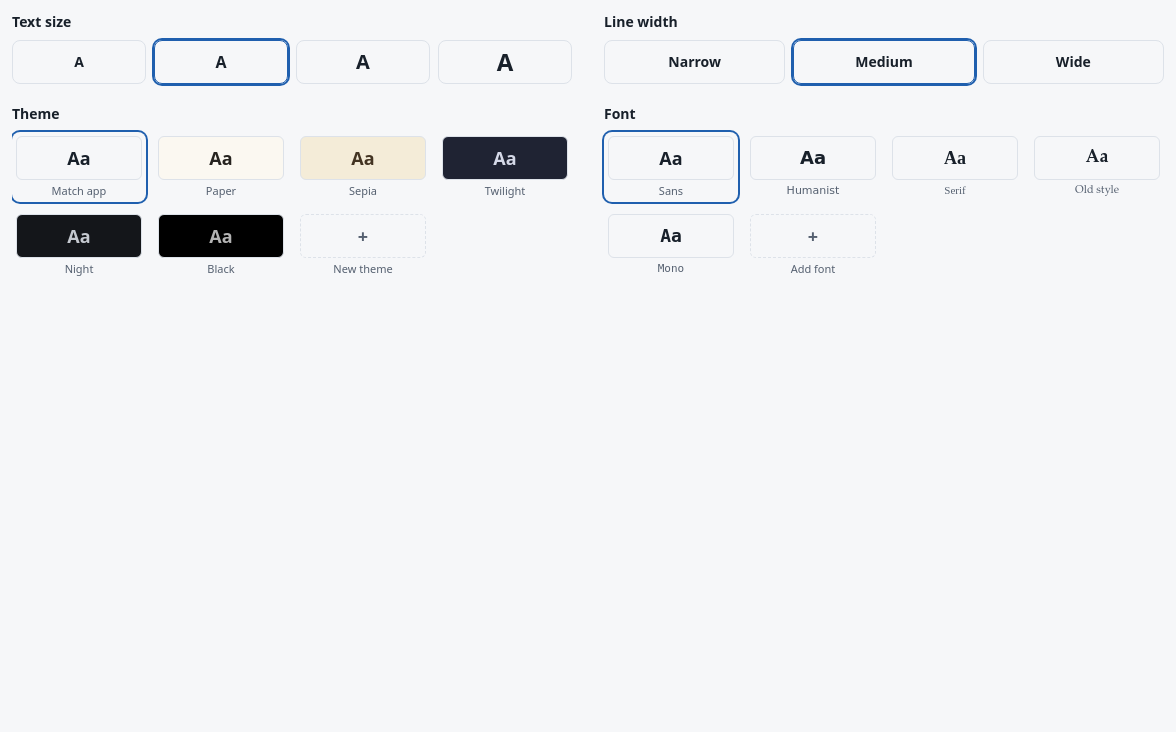
Scenario: ReaderSettings › fonts › notes that a custom font must be installed on the device
Click the button "+ Add font" at [813, 245], box [746,210,880,280]
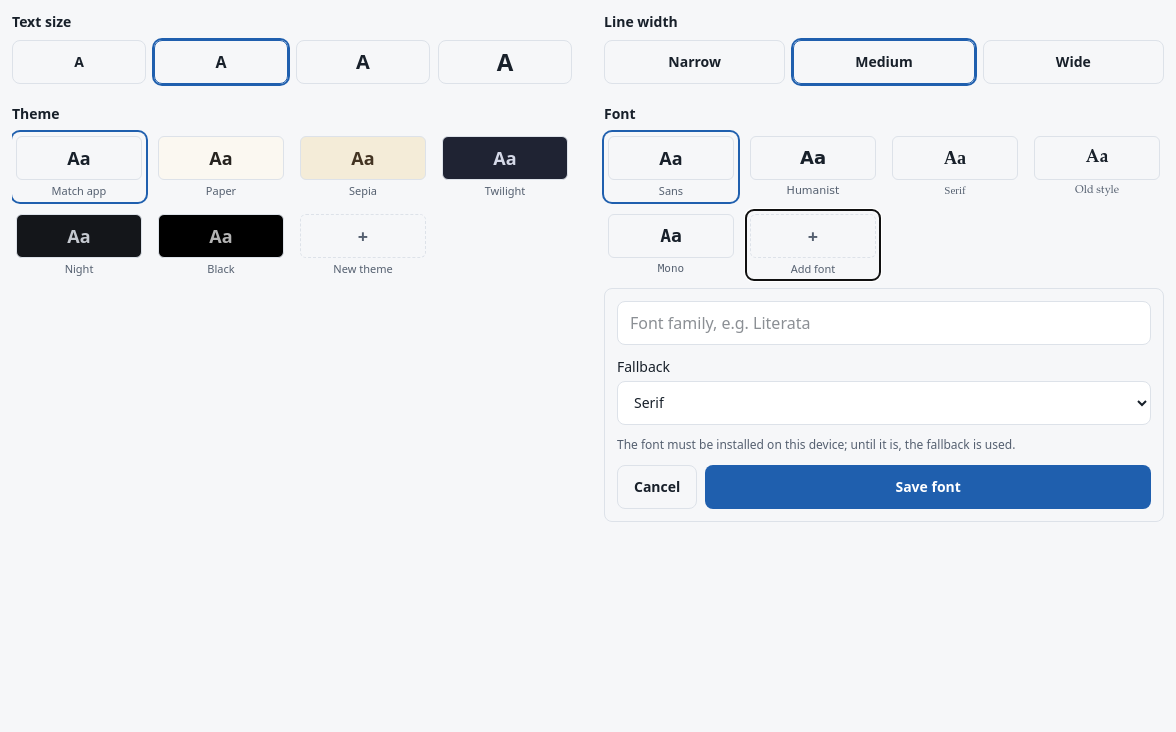
Check: the text "installed on this device" is shown, box [617,436,1015,452]
